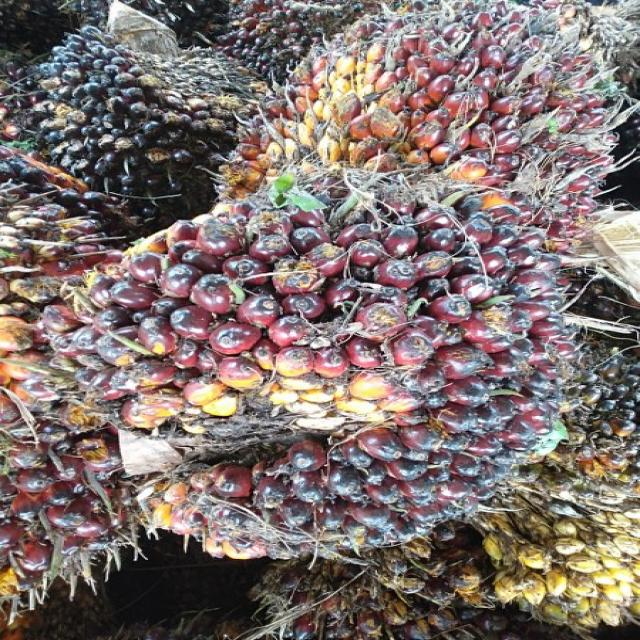fraksi 00: (2, 8, 264, 232)
fraksi 1: (59, 171, 587, 588)
